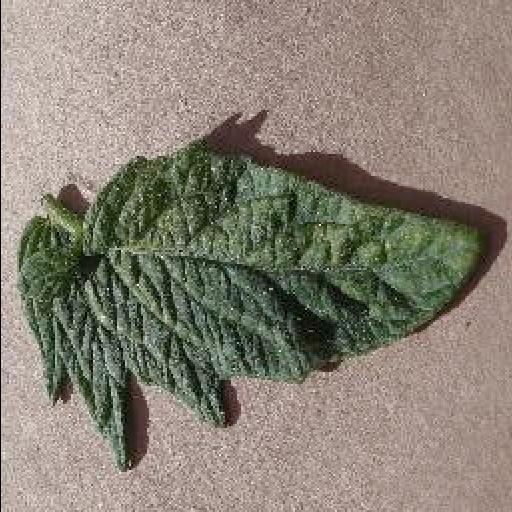disease_tomato: (16, 148, 480, 470)
